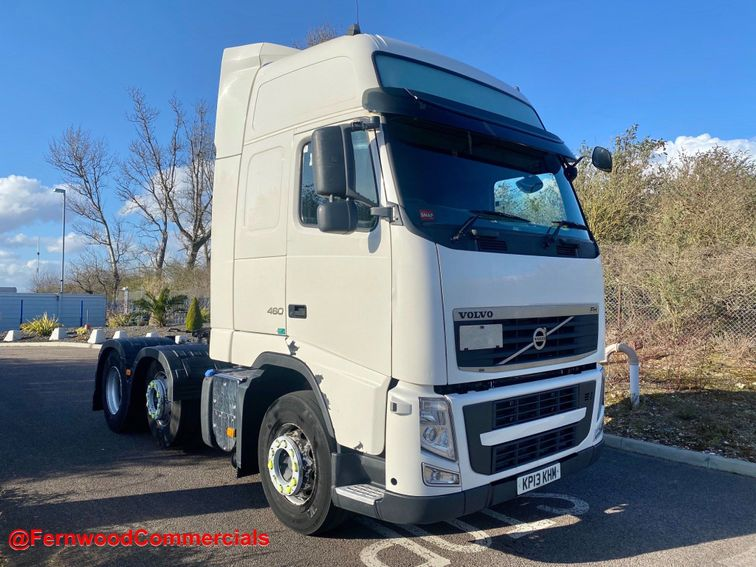Semi: (91, 23, 612, 536)
